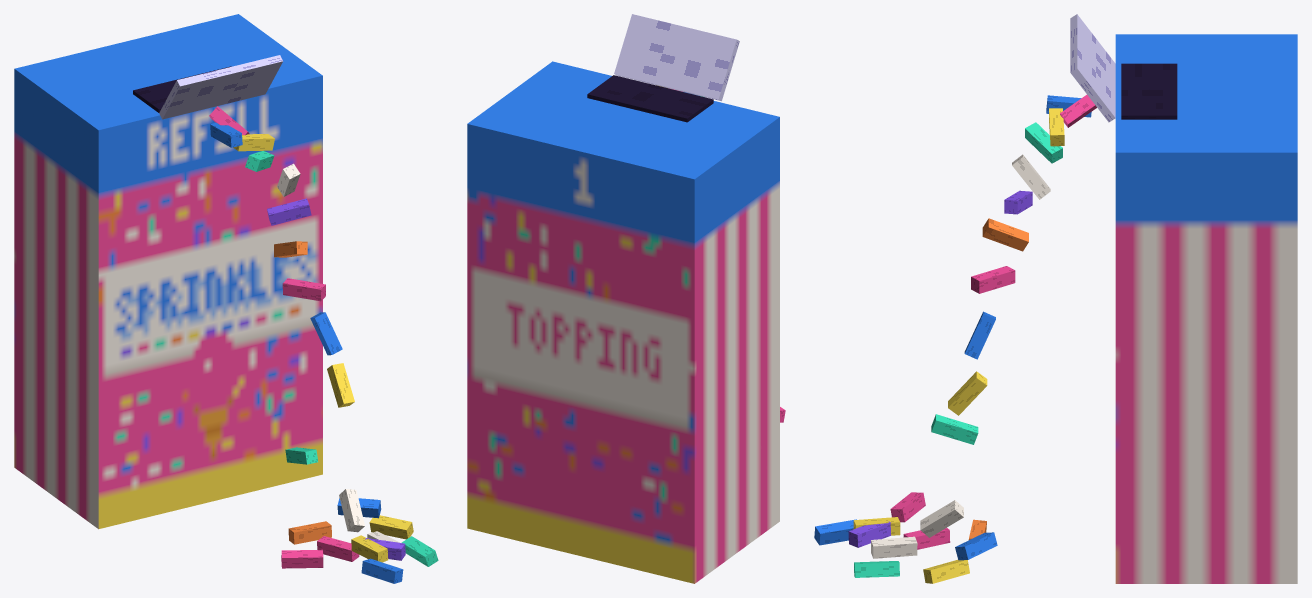
The model's file is Sprinkles Refill.fbx.
3 views of the same model, side by side, from view 1: azimuth 30°, elevation 25°; view 2: azimuth 150°, elevation 25°; view 3: azimuth 270°, elevation 25° (orthographic). The views are drawn at different scales.
Parts seen in each view (by area): view 1: Sprinkles Refill box, Sprinkles Refill spout, Sprinkles Refill spout hole, Sprinkles Refill pile 7, Sprinkles Refill falling 11, Sprinkles Refill falling 9, Sprinkles Refill falling 5, Sprinkles Refill falling 7, Sprinkles Refill pile 9, Sprinkles Refill falling 8, Sprinkles Refill pile 6, Sprinkles Refill pile 1 (+5 smaller); view 2: Sprinkles Refill box, Sprinkles Refill spout, Sprinkles Refill spout hole; view 3: Sprinkles Refill box, Sprinkles Refill spout hole, Sprinkles Refill spout, Sprinkles Refill falling 6, Sprinkles Refill pile 4, Sprinkles Refill falling 11, Sprinkles Refill falling 10, Sprinkles Refill falling 7, Sprinkles Refill falling 9, Sprinkles Refill falling 3, Sprinkles Refill pile 9, Sprinkles Refill falling 4 (+6 smaller).
Part boxes in pixels (x1,y1,x2,y2): Sprinkles Refill box: (14, 14, 322, 529); Sprinkles Refill spout: (159, 55, 283, 119); Sprinkles Refill spout hole: (133, 66, 231, 112); Sprinkles Refill pile 7: (281, 549, 323, 568); Sprinkles Refill falling 11: (339, 489, 364, 532); Sprinkles Refill falling 9: (327, 363, 354, 407); Sprinkles Refill falling 5: (267, 198, 311, 225); Sprinkles Refill falling 7: (282, 278, 325, 301); Sprinkles Refill pile 9: (369, 515, 413, 539); Sprinkles Refill falling 8: (310, 312, 342, 355); Sprinkles Refill pile 6: (288, 521, 331, 544); Sprinkles Refill pile 1: (361, 558, 403, 583); Sprinkles Refill box: (467, 61, 779, 583); Sprinkles Refill spout: (614, 14, 739, 101); Sprinkles Refill spout hole: (587, 75, 713, 122); Sprinkles Refill box: (1115, 34, 1297, 583); Sprinkles Refill spout hole: (1121, 63, 1177, 119); Sprinkles Refill spout: (1070, 14, 1115, 122); Sprinkles Refill falling 6: (982, 218, 1028, 251); Sprinkles Refill pile 4: (871, 536, 917, 558); Sprinkles Refill falling 11: (920, 500, 963, 537); Sprinkles Refill falling 10: (931, 414, 978, 444); Sprinkles Refill falling 7: (971, 266, 1015, 293); Sprinkles Refill falling 9: (948, 371, 987, 415); Sprinkles Refill falling 3: (1025, 122, 1062, 163); Sprinkles Refill pile 9: (923, 559, 969, 583); Sprinkles Refill falling 4: (1012, 154, 1050, 199).
Bounding box in the file's own units: 0.1028 × 0.1908 × 0.1727.
Materials: 10 (10 with a texture image).
